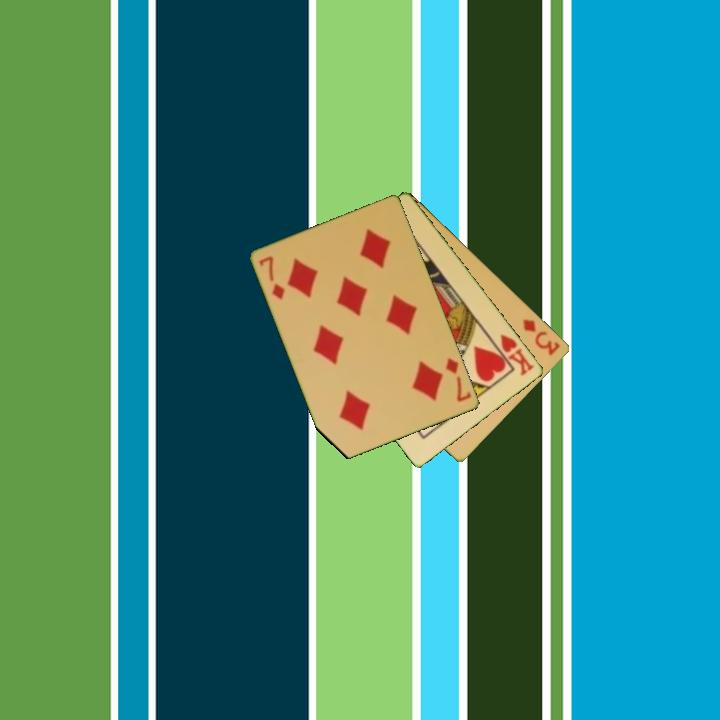3d: (519, 315, 563, 359)
7d: (442, 354, 474, 405), (256, 253, 288, 303)
Kh: (488, 331, 538, 379)
